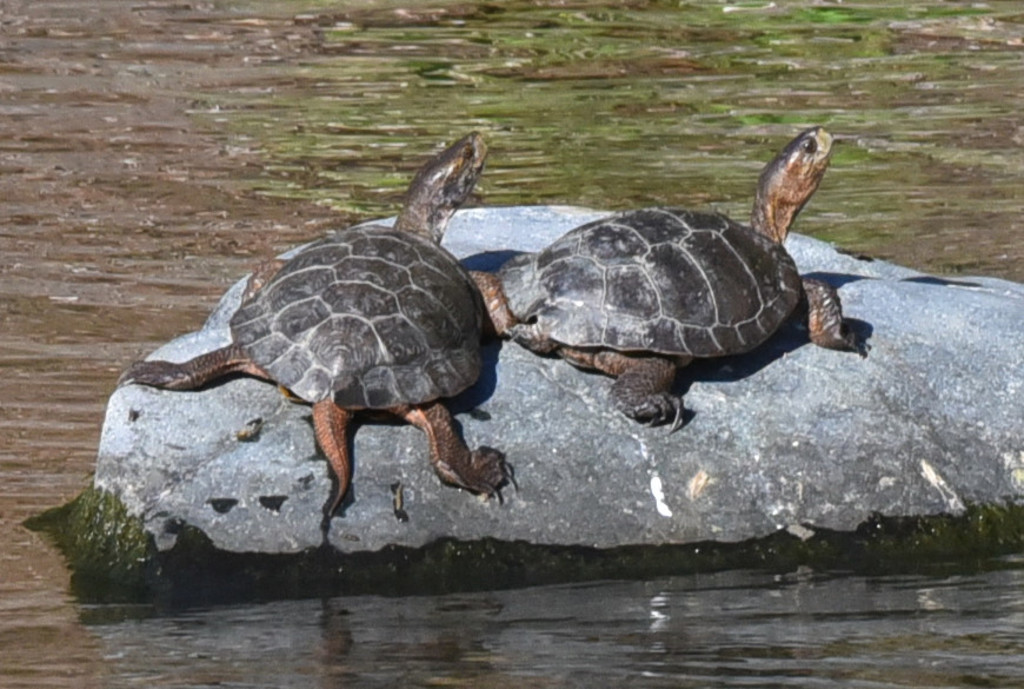Sea turtles: (112, 122, 517, 517), (493, 126, 866, 433)
